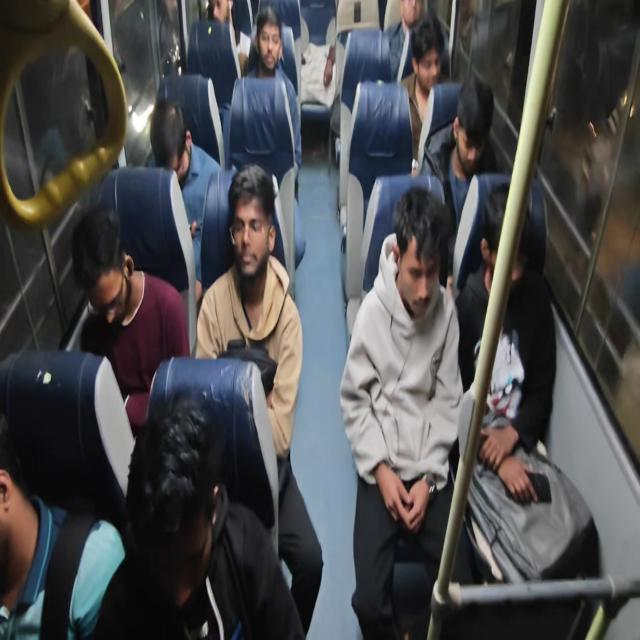person: (194, 163, 324, 636), (339, 186, 469, 638), (92, 393, 306, 639), (455, 182, 558, 584), (71, 202, 191, 435), (0, 426, 126, 639), (419, 73, 497, 284), (149, 96, 222, 300), (246, 5, 302, 191), (399, 13, 445, 174), (246, 5, 298, 97), (208, 0, 251, 77), (385, 0, 424, 82)
